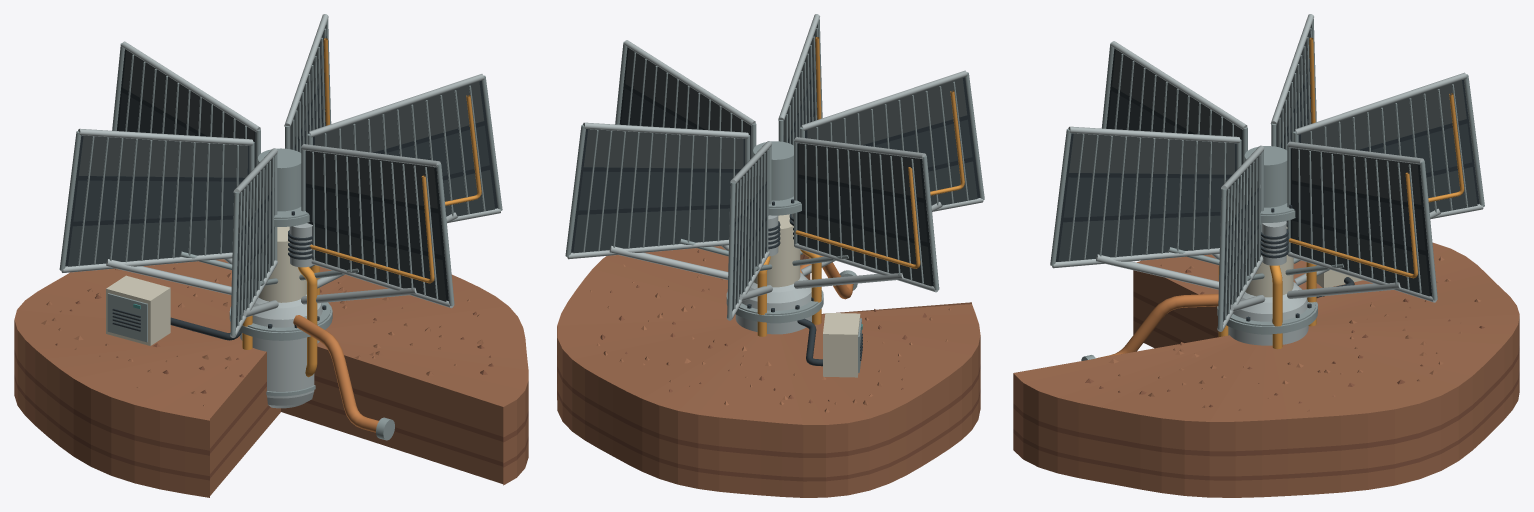
Rendered from p1_vertical.glb.
The picture shows the model from 3 angles, left to right: view 1: azimuth 30°, elevation 25°; view 2: azimuth 150°, elevation 25°; view 3: azimuth 270°, elevation 25°; orthographic projection. The views are drawn at different scales.
Visible parts, largest first — view 1: Regolith plinth, Wing 3, Wing 1, Wing 6, Wing 4, Converter head, Heat service and controls, Wing 2, Buried module, Wing 5; view 2: Regolith plinth, Wing 5, Wing 3, Wing 2, Wing 6, Converter head, Wing 4, Heat service and controls, Wing 1, Buried module; view 3: Regolith plinth, Wing 1, Wing 5, Wing 4, Wing 2, Converter head, Wing 6, Wing 3, Heat service and controls, Buried module.
Boxes of the visible parts, x1,y1,x2,y2 form: Regolith plinth: [14, 259, 528, 497]; Wing 3: [59, 128, 254, 294]; Wing 1: [299, 144, 454, 308]; Wing 6: [307, 74, 502, 288]; Wing 4: [112, 41, 260, 264]; Converter head: [229, 148, 332, 377]; Heat service and controls: [106, 275, 394, 440]; Wing 2: [230, 148, 278, 337]; Buried module: [239, 294, 322, 408]; Wing 5: [284, 14, 331, 152]; Regolith plinth: [557, 246, 980, 497]; Wing 5: [565, 122, 750, 279]; Wing 3: [792, 137, 939, 292]; Wing 2: [800, 70, 984, 276]; Wing 6: [615, 40, 756, 250]; Converter head: [726, 141, 823, 336]; Wing 4: [726, 141, 772, 320]; Heat service and controls: [797, 256, 862, 377]; Wing 1: [778, 14, 822, 145]; Buried module: [735, 272, 811, 334]; Regolith plinth: [1013, 242, 1519, 497]; Wing 1: [1050, 126, 1241, 289]; Wing 5: [1285, 141, 1437, 302]; Wing 4: [1293, 72, 1484, 285]; Wing 2: [1101, 41, 1247, 259]; Converter head: [1217, 146, 1317, 349]; Wing 6: [1217, 145, 1265, 331]; Wing 3: [1270, 14, 1316, 150]; Heat service and controls: [1081, 265, 1362, 360]; Buried module: [1228, 282, 1308, 345].
Bounding box in the file's own units: 5.76 × 4.28 × 6.42.
